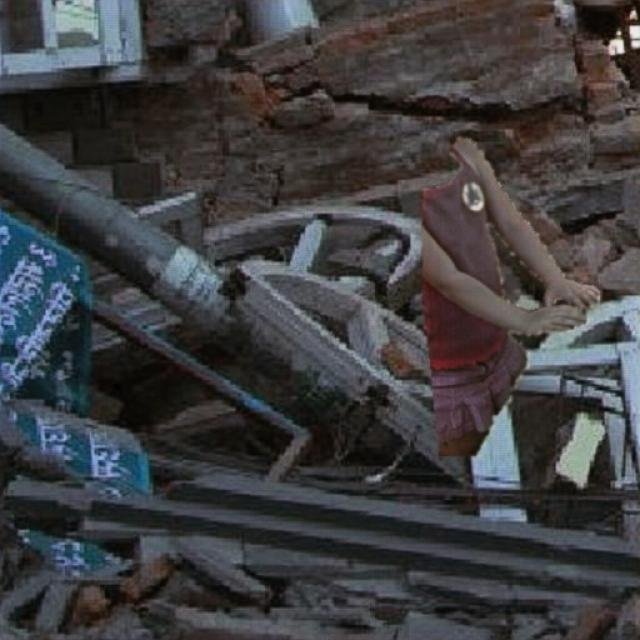Person in Rubble: (422, 136, 598, 455)
